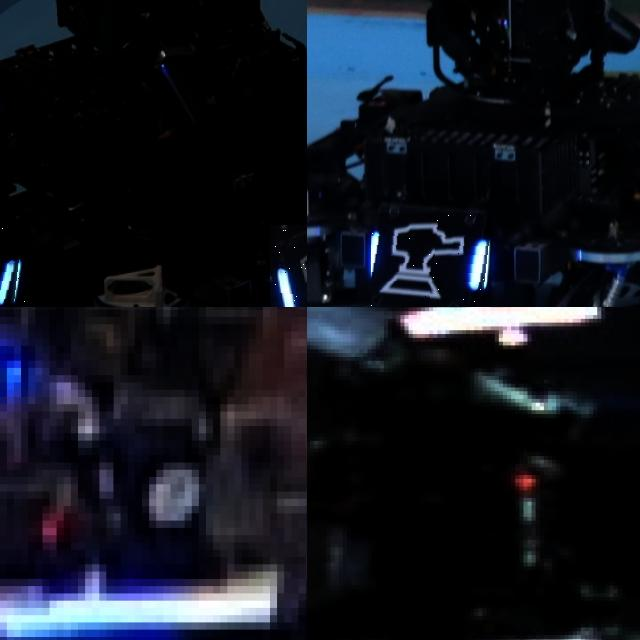Bs: (371, 213, 492, 307), (270, 225, 307, 307), (0, 203, 24, 307)
